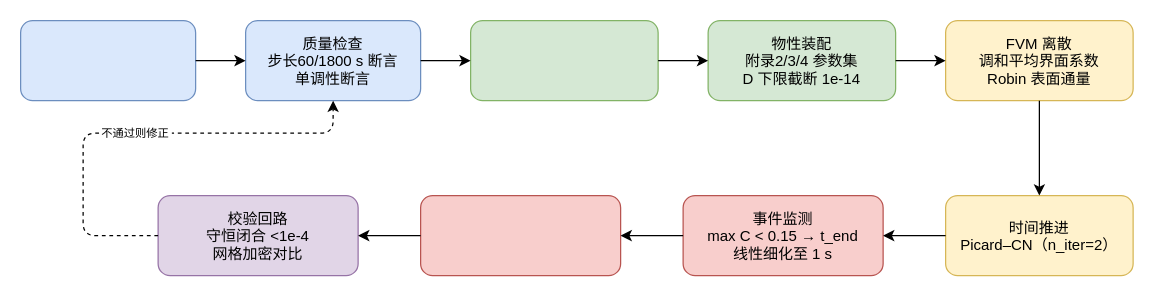
Some shapes in this 1154 by 296 pixel diagram are drawn without their labels. The shapes that lost their labels are listed below. From the top down, each one's box as (x1, y1, x2, y2) in pixels, then its label:
(19, 19, 196, 101): 读取附件1/2 xlsx → 数组
(469, 19, 658, 101): 边界调度构造 线性插值器 (T_a,C_a) 恒温段=末30min均值
(419, 194, 621, 276): 输出 表1–表6 · result1–4.xlsx 数据图 PDF
